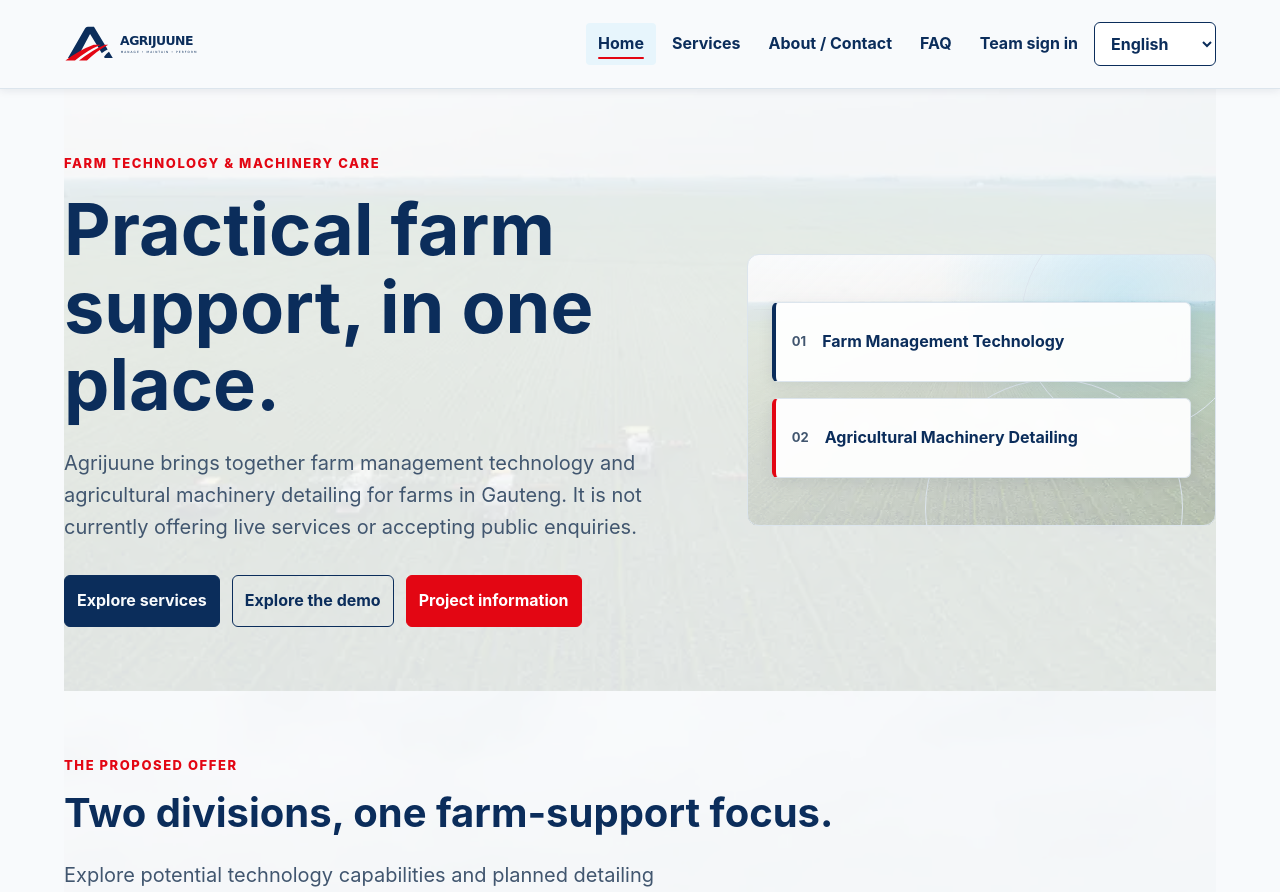
Test: public application shell › localizes homepage content into Afrikaans
Select "Afrikaans" in the dropdown named "Language" at (1155, 44), box [1094, 22, 1216, 66]
(page scrolled)
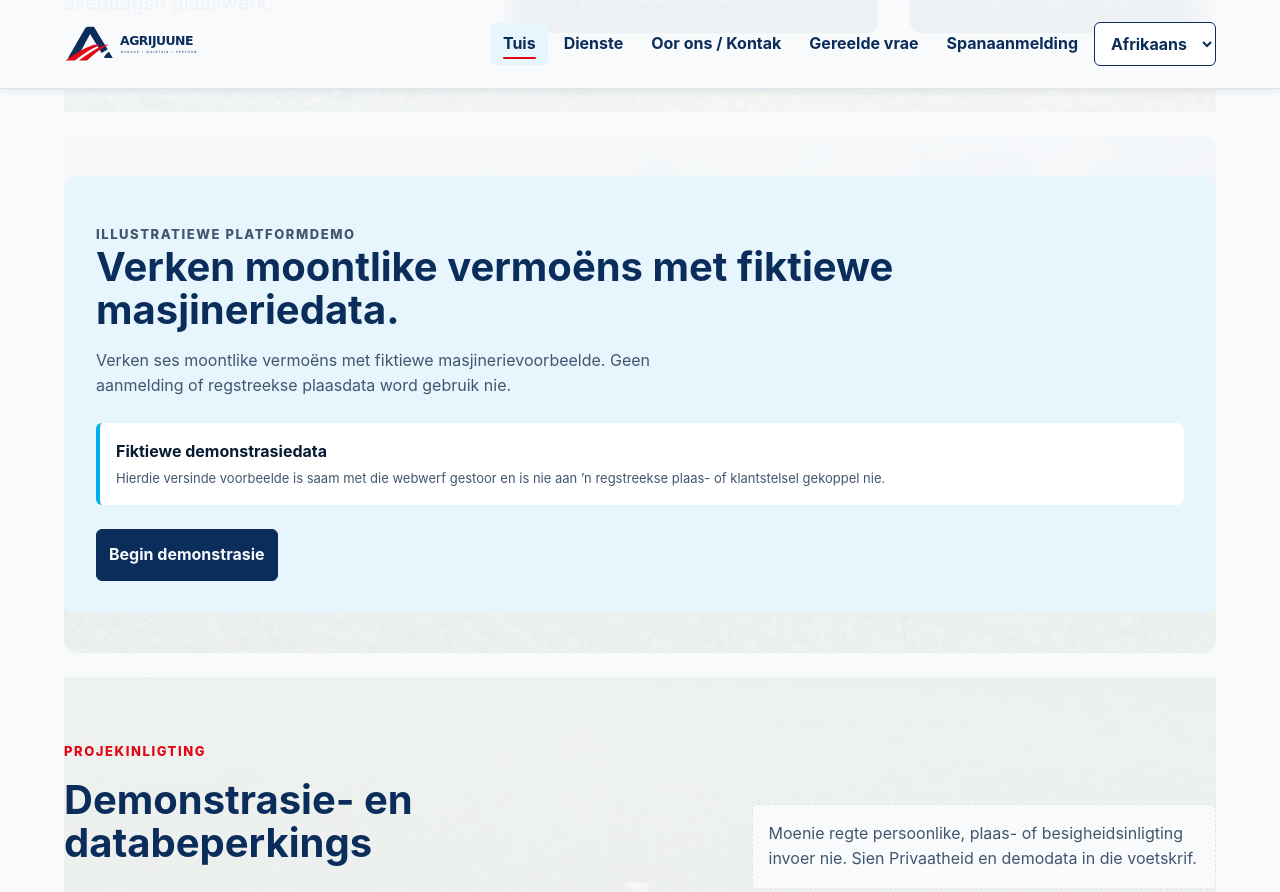
Now the text "Fiktiewe demonstrasiedata" is shown, box [116, 441, 327, 461]
